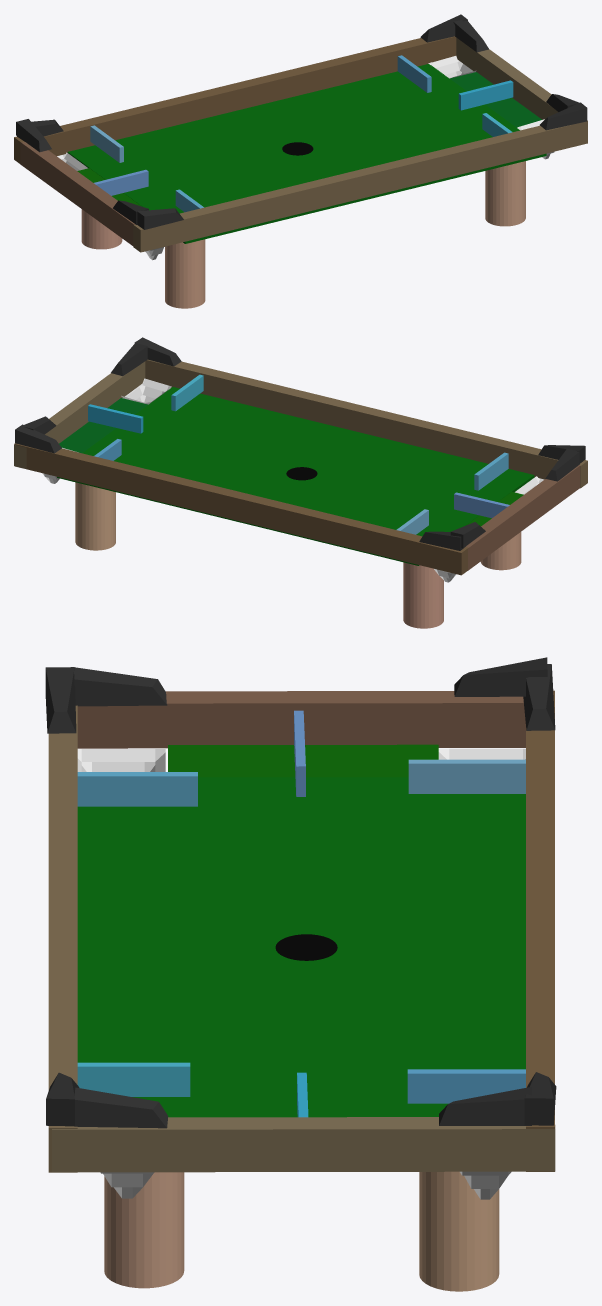
Rendered from vanyadolboeb.fbx.
3 views of the same model, one above another, from view 1: azimuth 30°, elevation 25°; view 2: azimuth 150°, elevation 25°; view 3: azimuth 270°, elevation 25° (orthographic). The views are drawn at different scales.
Visible parts, largest first — view 1: Cube, Cube.001, Cube.002, Cube.003, Cylinder.001, Cube.004, Cylinder.002, Plane.005, Cylinder, Cube.018, Cube.015, Cube.008 (+9 smaller); view 2: Cube, Cube.002, Cube.001, Cube.003, Cube.004, Cylinder.003, Cylinder, Plane.005, Cube.018, Cylinder.001, Cube.015, Cube.006 (+10 smaller); view 3: Cube, Cube.004, Cube.003, Cube.001, Cube.002, Cylinder.003, Cylinder.002, Plane.004, Cube.014, Cube.013, Cube.016, Cube.017 (+14 smaller).
Boxes of the visible parts, left/top/right/bottom form: Cube: left=67, top=64, right=546, bottom=243; Cube.001: left=133, top=121, right=587, bottom=252; Cube.002: left=14, top=36, right=456, bottom=163; Cube.003: left=20, top=141, right=135, bottom=245; Cylinder.001: left=165, top=239, right=205, bottom=308; Cube.004: left=456, top=37, right=587, bottom=120; Cylinder.002: left=485, top=161, right=525, bottom=226; Plane.005: left=450, top=72, right=541, bottom=127; Cylinder: left=81, top=209, right=122, bottom=249; Cube.018: left=458, top=80, right=513, bottom=110; Cube.015: left=94, top=169, right=148, bottom=195; Cube.008: left=540, top=102, right=587, bottom=130; Cube: left=57, top=387, right=534, bottom=565; Cube.002: left=14, top=443, right=468, bottom=575; Cube.001: left=145, top=359, right=587, bottom=488; Cube.003: left=466, top=465, right=580, bottom=570; Cube.004: left=14, top=361, right=145, bottom=468; Cylinder.003: left=75, top=482, right=115, bottom=550; Cylinder: left=403, top=562, right=443, bottom=628; Plane.005: left=59, top=398, right=147, bottom=453; Cube.018: left=88, top=404, right=143, bottom=433; Cylinder.001: left=480, top=532, right=521, bottom=570; Cube.015: left=454, top=492, right=509, bottom=518; Cube.006: left=15, top=424, right=61, bottom=453; Cube: left=77, top=777, right=525, bottom=1117; Cube.004: left=52, top=1117, right=555, bottom=1172; Cube.003: left=77, top=691, right=525, bottom=748; Cube.001: left=48, top=705, right=77, bottom=1172; Cube.002: left=526, top=690, right=554, bottom=1171; Cylinder.003: left=419, top=1171, right=499, bottom=1291; Cylinder.002: left=104, top=1172, right=184, bottom=1288; Plane.004: left=168, top=744, right=438, bottom=777; Cube.014: left=77, top=772, right=197, bottom=806; Cube.013: left=408, top=759, right=525, bottom=793; Cube.016: left=77, top=1062, right=190, bottom=1096; Cube.017: left=407, top=1069, right=525, bottom=1103.
Size of the model in its own units: 173 by 43.65 by 85.15.
